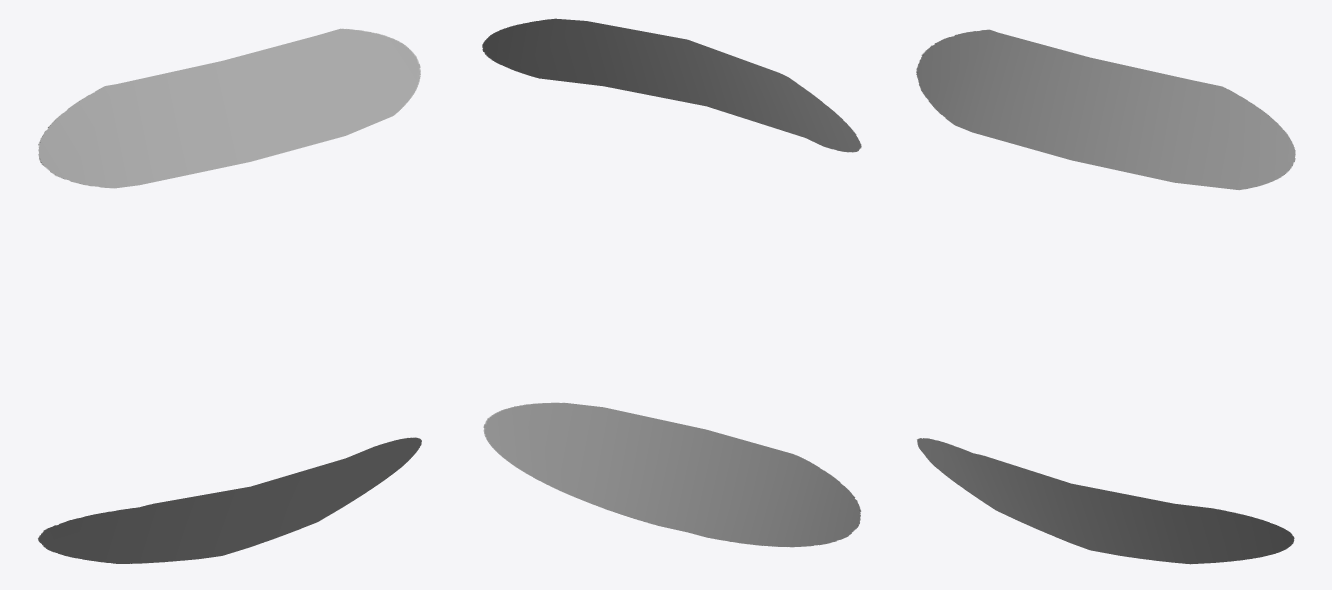
The model's file is HeadPitch_4.obj.
The picture shows the model from 3 angles, left to right: view 1: azimuth 30°, elevation 25°; view 2: azimuth 150°, elevation 25°; view 3: azimuth 330°, elevation 25°; orthographic projection.
Bounding box in the file's own units: 0.0745 × 0.085 × 0.0125.
Materials: 1 (1 with a texture image).
